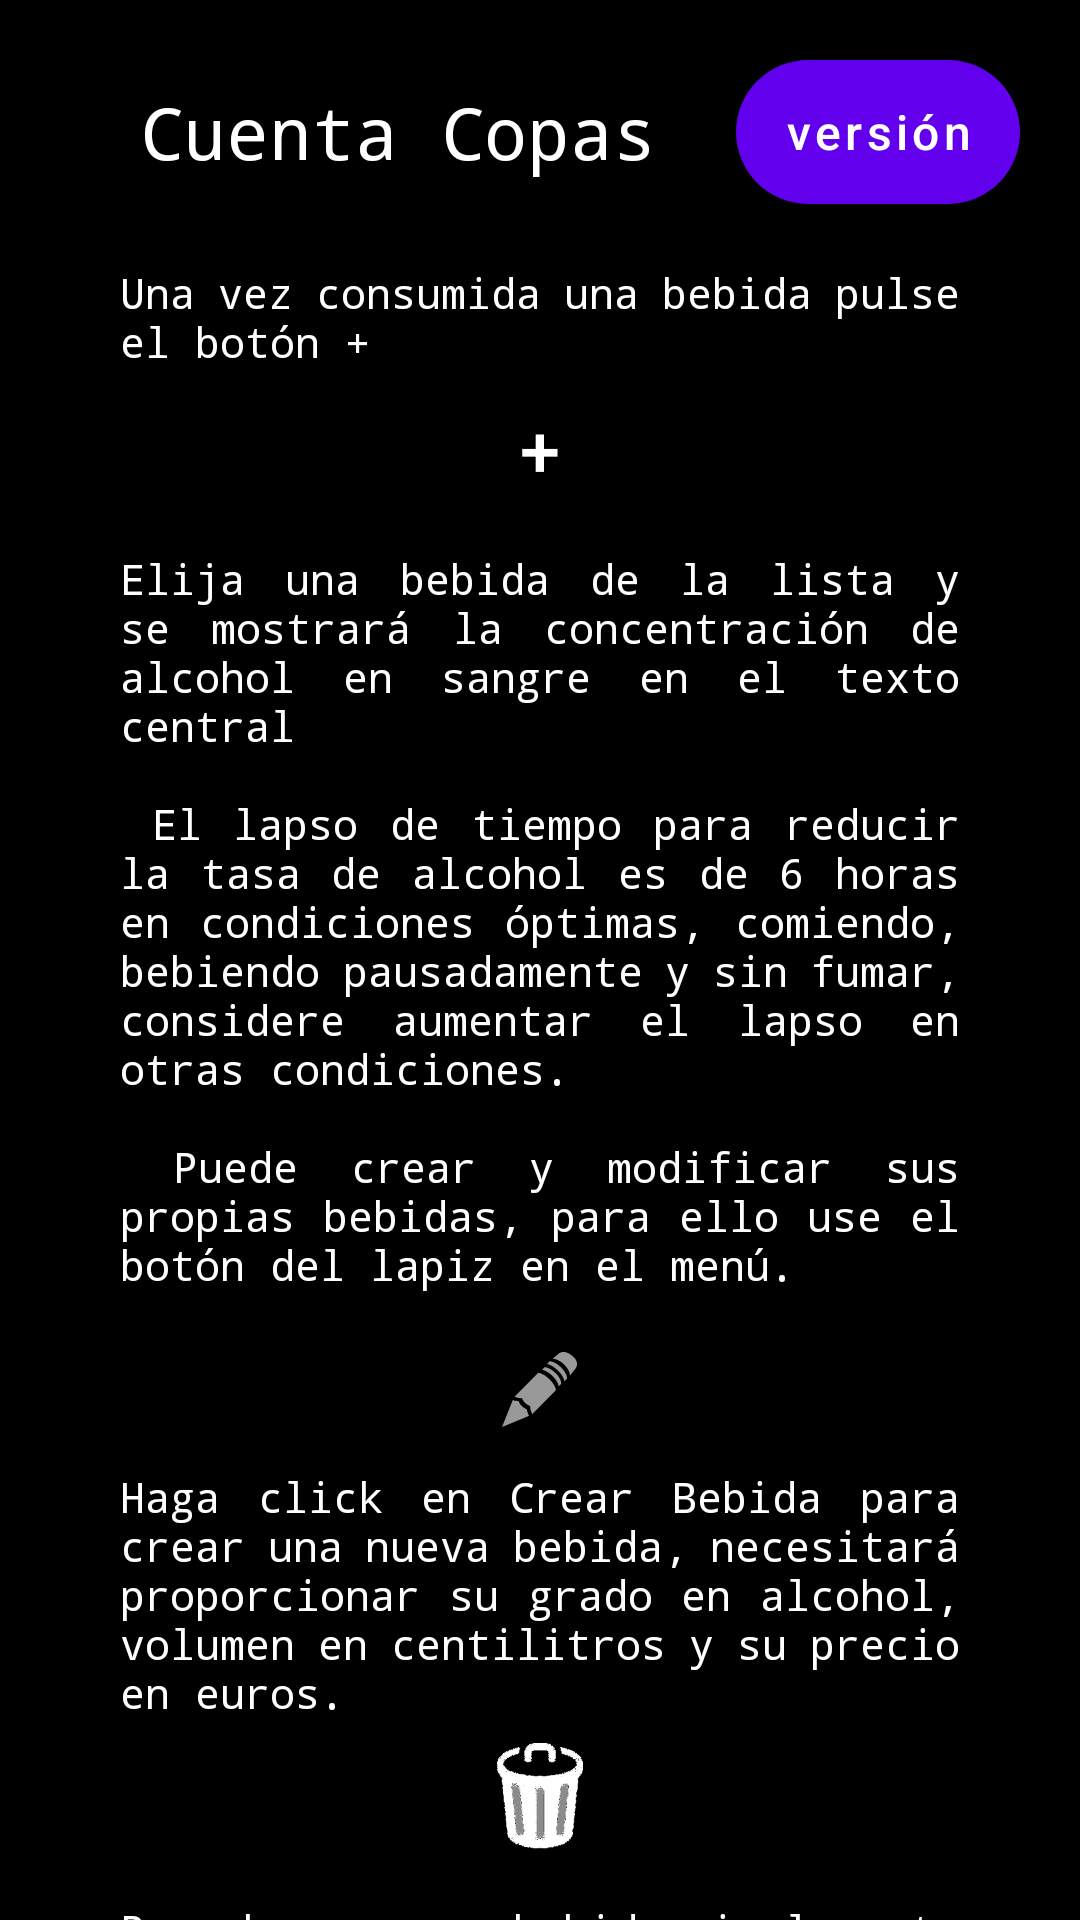

Screen size 1080*1920. Icon name, then its center in pixels as (x,y):
edit: (539,1389)
